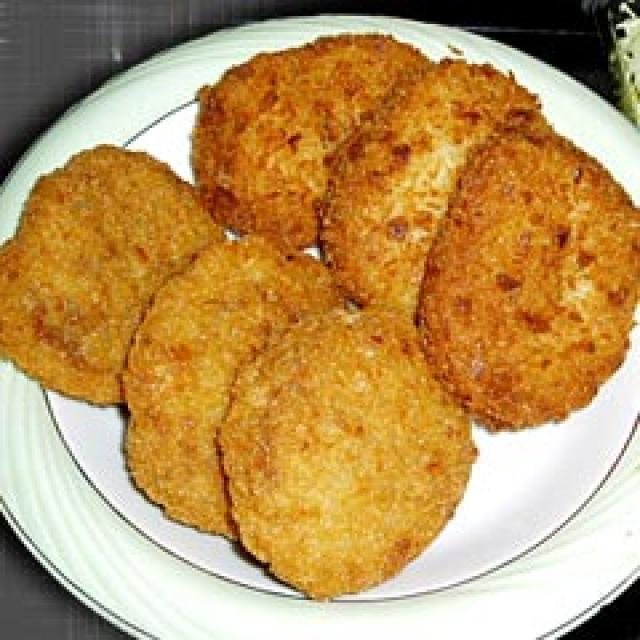炸货点心: (0, 32, 640, 603)
